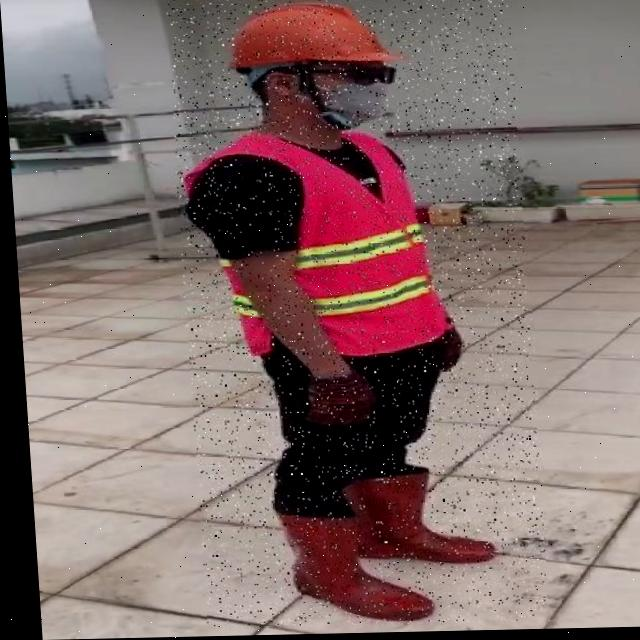Gloves: (294, 365, 373, 431)
Helmet: (222, 0, 406, 84)
Safety-Boot: (271, 508, 426, 624), (333, 465, 489, 567)
Safety-Vest: (177, 127, 451, 364)
